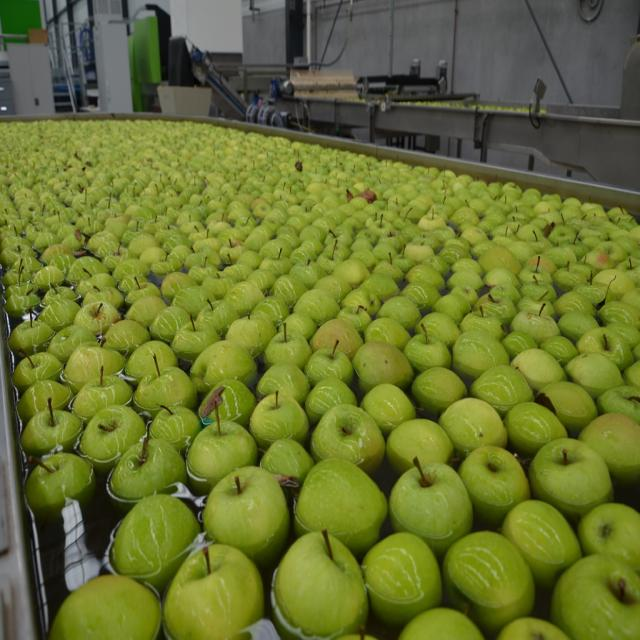Healty Apple: (0, 118, 640, 639), (162, 541, 262, 639)
